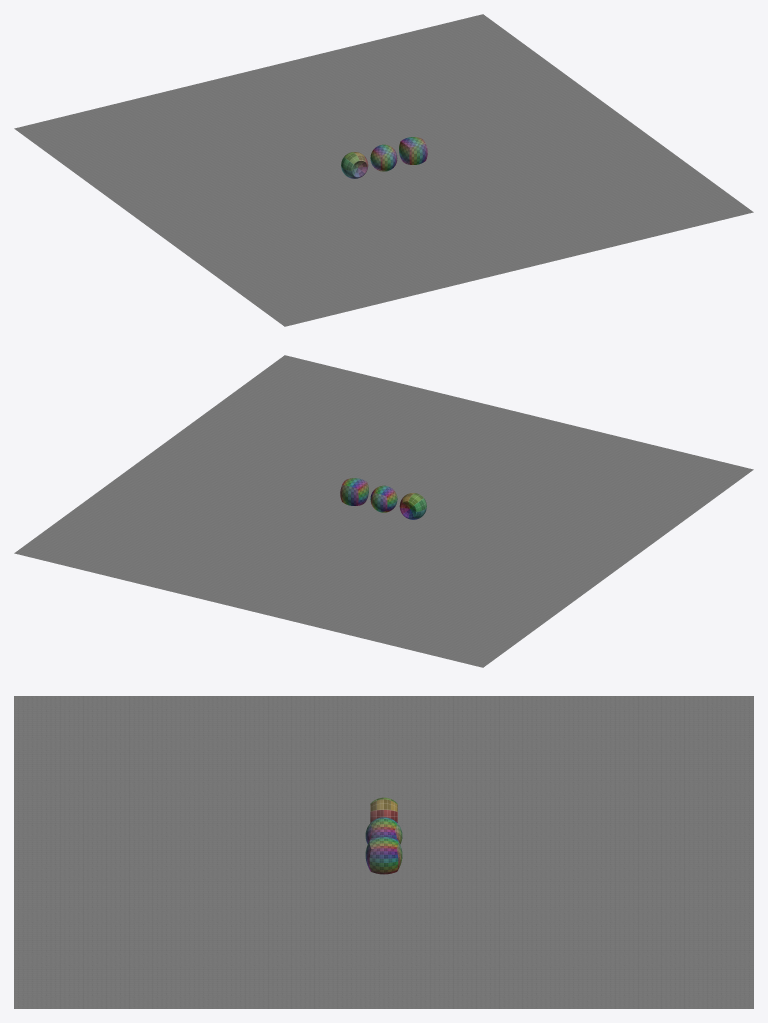
Rendered from simple_pl.gltf.
3 views of the same model, one above another, from view 1: azimuth 30°, elevation 25°; view 2: azimuth 150°, elevation 25°; view 3: azimuth 270°, elevation 25° (orthographic). The views are drawn at different scales.
Parts seen in each view (by area): view 1: floor_matte_grid, spherizedcube_plastic_colored, spherecube_plastic_colored, flipcapsphere_plastic_colored; view 2: floor_matte_grid, spherizedcube_plastic_colored, spherecube_plastic_colored, flipcapsphere_plastic_colored; view 3: floor_matte_grid, spherizedcube_plastic_colored, spherecube_plastic_colored, flipcapsphere_plastic_colored.
Boxes of the visible parts, box(x1,y1,x2,y2) form: floor_matte_grid: box(14, 14, 753, 326); spherizedcube_plastic_colored: box(399, 137, 427, 164); spherecube_plastic_colored: box(370, 144, 397, 171); flipcapsphere_plastic_colored: box(341, 152, 368, 178); floor_matte_grid: box(14, 355, 753, 667); spherizedcube_plastic_colored: box(340, 478, 368, 505); spherecube_plastic_colored: box(370, 485, 397, 512); flipcapsphere_plastic_colored: box(399, 493, 426, 519); floor_matte_grid: box(14, 696, 753, 1008); spherizedcube_plastic_colored: box(365, 836, 402, 874); spherecube_plastic_colored: box(365, 817, 402, 844); flipcapsphere_plastic_colored: box(370, 797, 397, 822).
Bounding box in the file's own units: 40 × 2 × 40.
2 materials, 2 textured.
